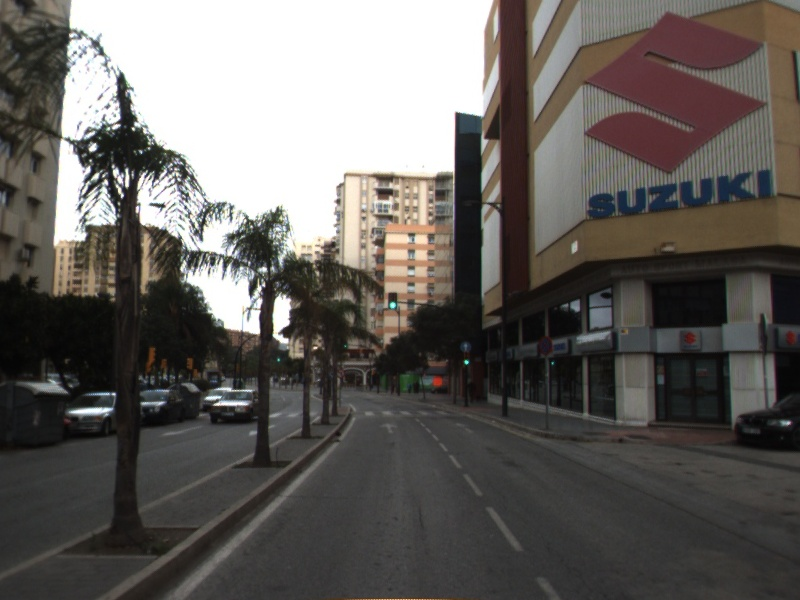STRAIGHT: (451, 420, 479, 436), (376, 420, 401, 436)
